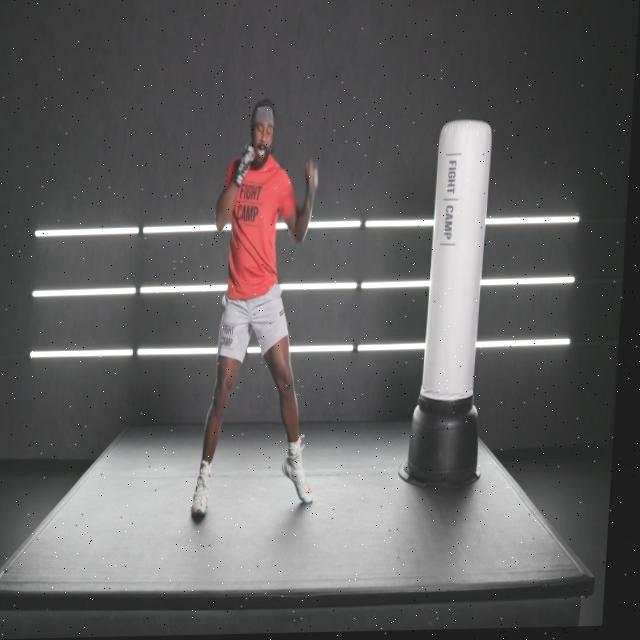Uppercut: (212, 152, 330, 305)
